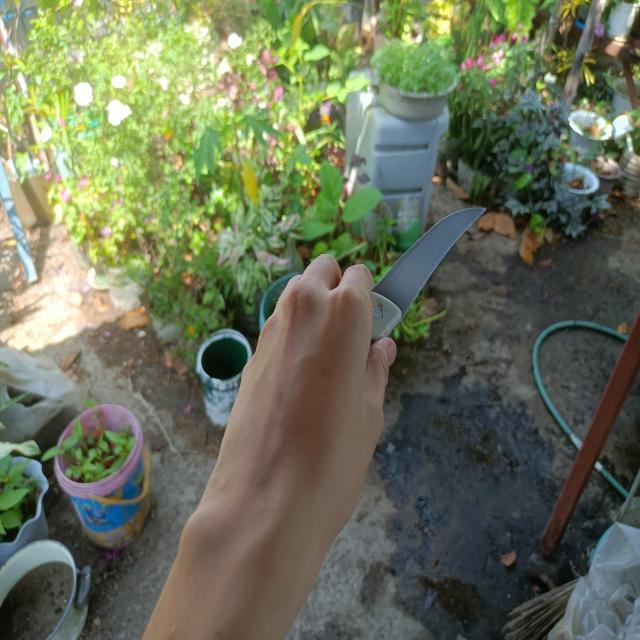knife: (371, 207, 485, 347)
